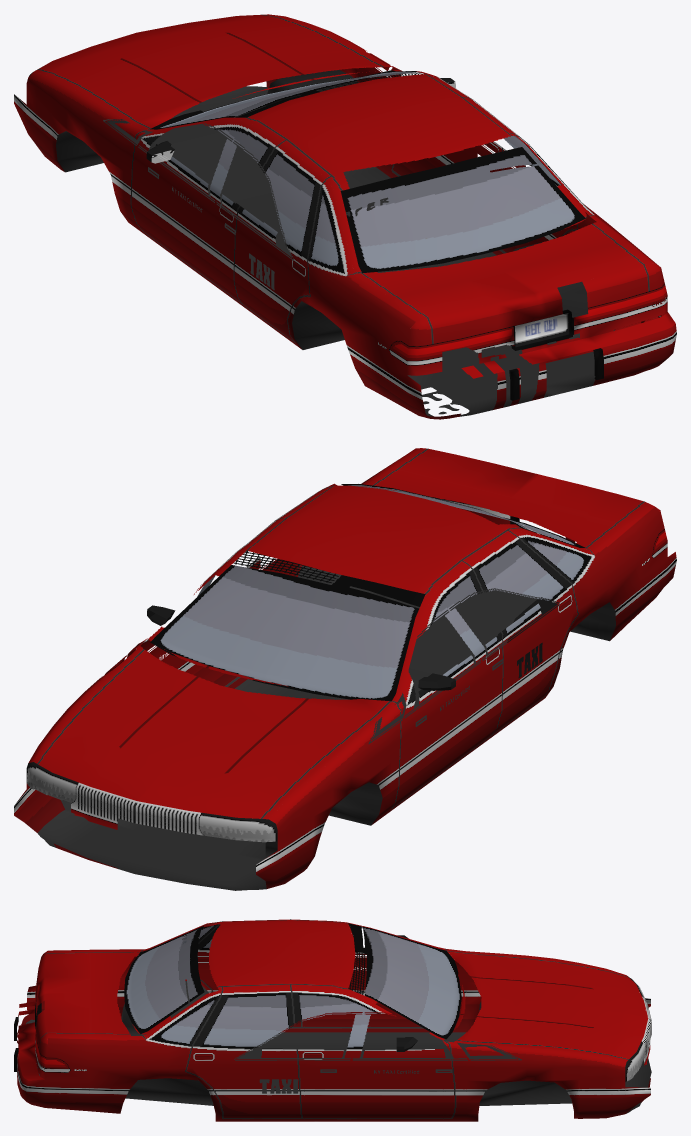
File: 90regalsedan.fbx
3 renders of one model, top to bottom at view 1: azimuth 30°, elevation 25°; view 2: azimuth 150°, elevation 25°; view 3: azimuth 270°, elevation 25°, orthographic. The views are drawn at different scales.
Visible parts, largest first — view 1: 93regalsedan; view 2: 93regalsedan; view 3: 93regalsedan.
Boxes of the visible parts, x1,y1,x2,y2 form: 93regalsedan: (14,14,676,419); 93regalsedan: (14,448,676,890); 93regalsedan: (14,919,651,1121).
Bounding box in the file's own units: 2.19 × 1.17 × 5.48.
